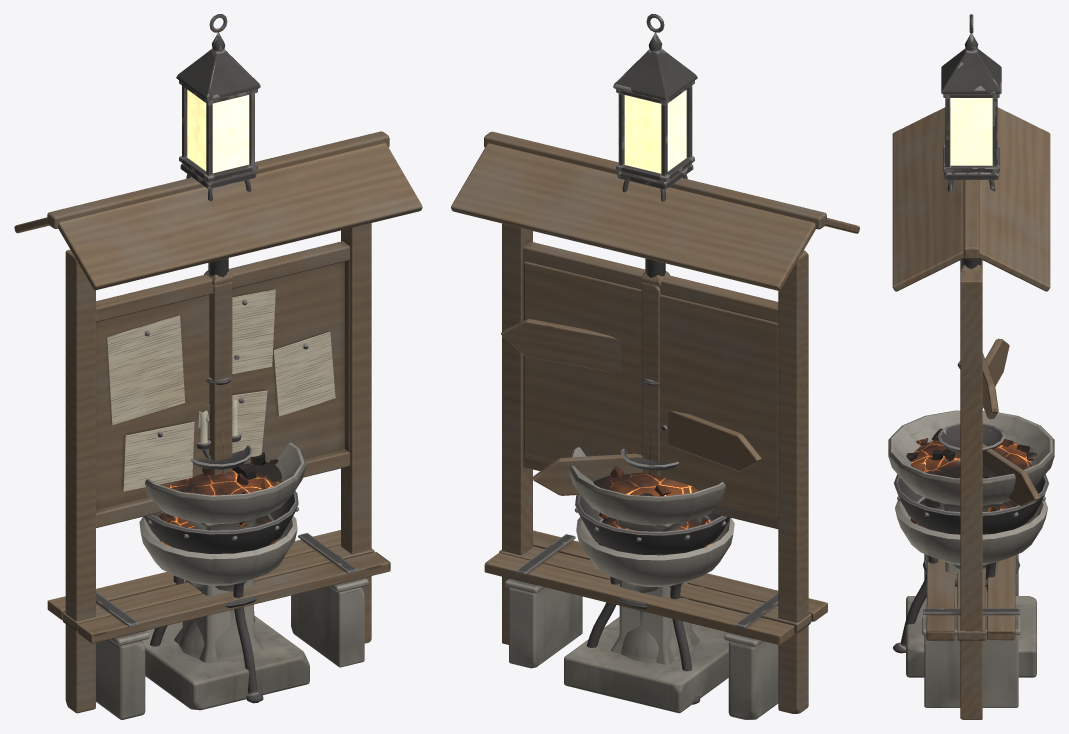
Rendered from HubProps.gltf.
3 renders of one model, left to right at view 1: azimuth 30°, elevation 25°; view 2: azimuth 150°, elevation 25°; view 3: azimuth 270°, elevation 25°, orthographic. The views are drawn at different scales.
Parts seen in each view (by area): view 1: NoticeBoard, Bench, OfferingBowl, LampPost, FireBowl, Brazier, Signpost, CandleStand; view 2: NoticeBoard, Bench, OfferingBowl, Signpost, LampPost, FireBowl, Brazier; view 3: NoticeBoard, Bench, FireBowl, LampPost, OfferingBowl, Brazier, Signpost, CandleStand.
Part boxes in pixels (box(x1,y1,x2,y2)): NoticeBoard: box(14, 131, 422, 713); Bench: box(47, 530, 390, 719); OfferingBowl: box(139, 516, 309, 710); LampPost: box(176, 14, 260, 473); FireBowl: box(145, 442, 306, 663); Brazier: box(144, 491, 298, 703); Signpost: box(204, 270, 239, 475); CandleStand: box(190, 400, 252, 469); NoticeBoard: box(451, 131, 859, 713); Bench: box(484, 530, 827, 719); OfferingBowl: box(564, 517, 734, 713); Signpost: box(501, 271, 761, 495); LampPost: box(613, 14, 697, 474); FireBowl: box(568, 447, 725, 664); Brazier: box(574, 495, 730, 704); NoticeBoard: box(892, 107, 1050, 719); Bench: box(922, 554, 1020, 707); FireBowl: box(888, 410, 1054, 615); LampPost: box(941, 14, 1001, 368); OfferingBowl: box(895, 500, 1047, 677); Brazier: box(893, 474, 1048, 653); Signpost: box(960, 262, 1040, 506); CandleStand: box(938, 423, 1004, 452).
Bounding box in the file's own units: 1.66 × 3.12 × 0.7387.
Materials: 8 (8 with a texture image).
